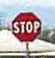stop: (10, 11, 42, 43)
